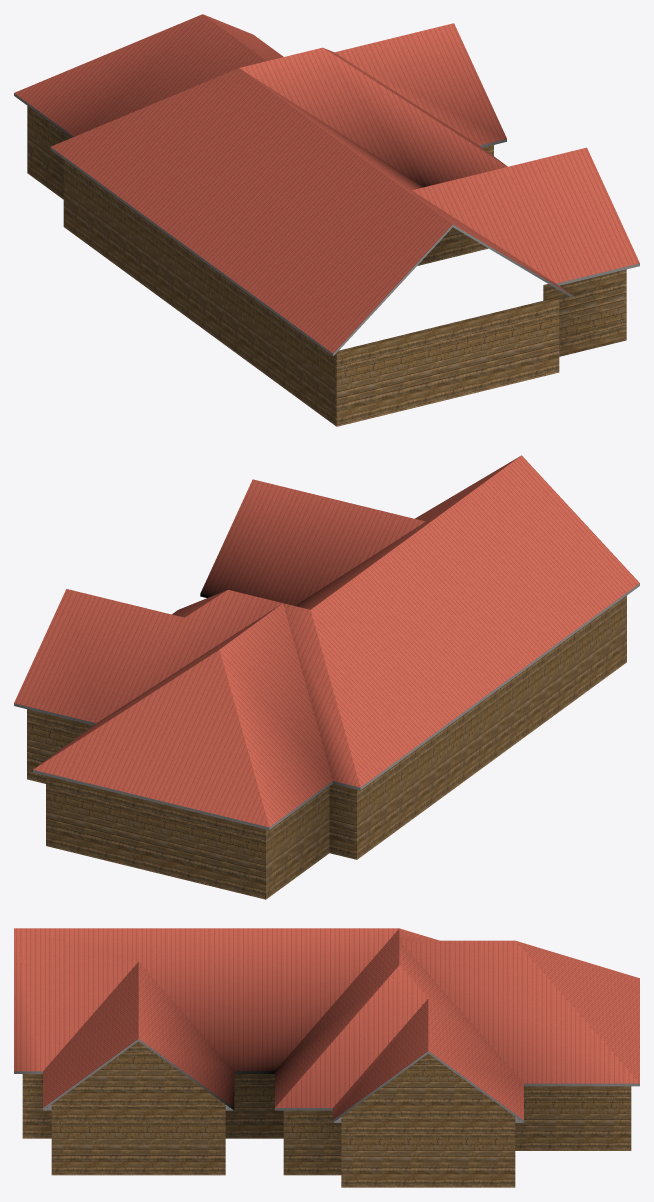
File: house_023.glb
The picture shows the model from 3 angles, top to bottom: view 1: azimuth 30°, elevation 25°; view 2: azimuth 150°, elevation 25°; view 3: azimuth 270°, elevation 25°; orthographic projection. The views are drawn at different scales.
Parts seen in each view (by area): view 1: Export; view 2: Export; view 3: Export.
Boxes of the visible parts, box(x1,y1,x2,y2) form: Export: box(14, 14, 639, 426); Export: box(14, 455, 639, 899); Export: box(14, 928, 639, 1187).
Size of the model in its own units: 12.6 by 6.14 by 21.6.
3 materials, 3 textured.
